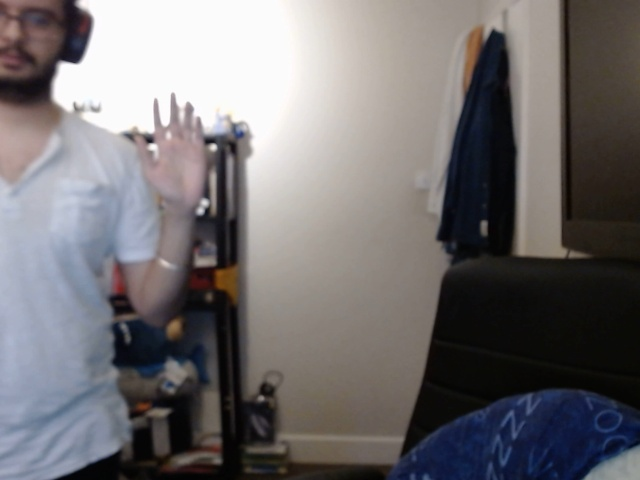Hello: (129, 89, 214, 218)
